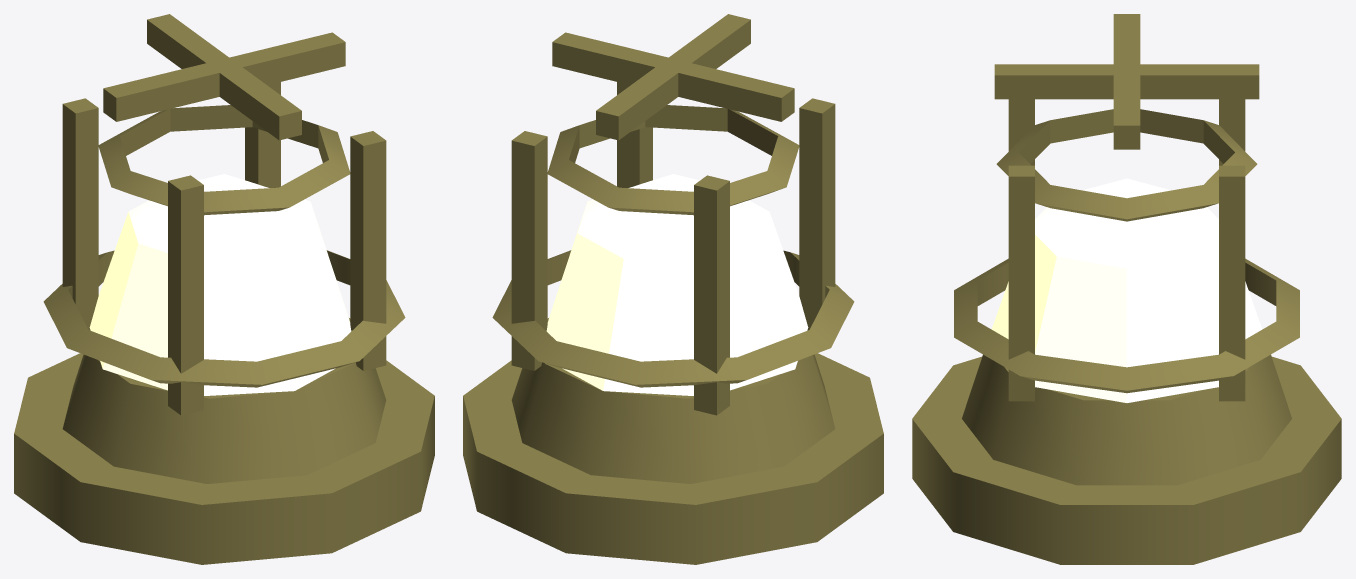
File: scrap_ship_lamp.fbx
The picture shows the model from 3 angles, left to right: view 1: azimuth 30°, elevation 25°; view 2: azimuth 150°, elevation 25°; view 3: azimuth 270°, elevation 25°; orthographic projection.
Visible parts, largest first — view 1: scrap_ship_lamp; view 2: scrap_ship_lamp; view 3: scrap_ship_lamp.
Part boxes in pixels (x1=…): scrap_ship_lamp: x1=14, y1=14, x2=434, y2=564; scrap_ship_lamp: x1=463, y1=14, x2=883, y2=564; scrap_ship_lamp: x1=912, y1=14, x2=1341, y2=564.
Size of the model in its own units: 0.2473 by 0.273 by 0.26.
Materials: 1 (1 with a texture image).
